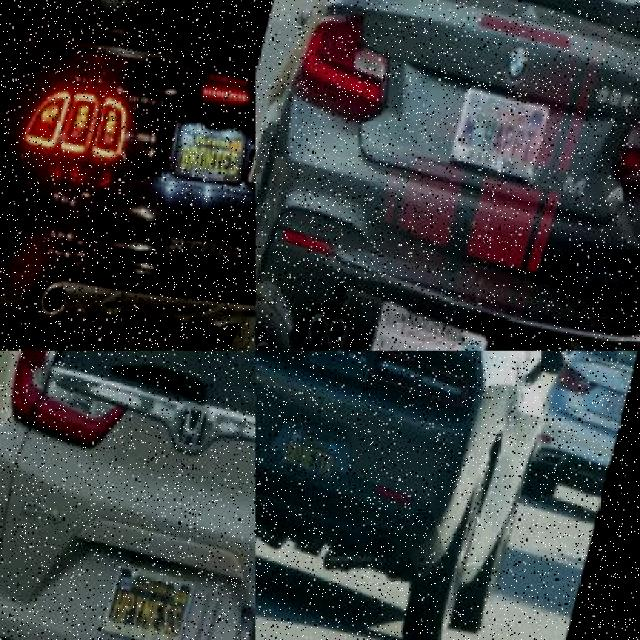licenseplate: (455, 71, 553, 172), (108, 554, 202, 640), (178, 111, 254, 173), (284, 412, 347, 478)
